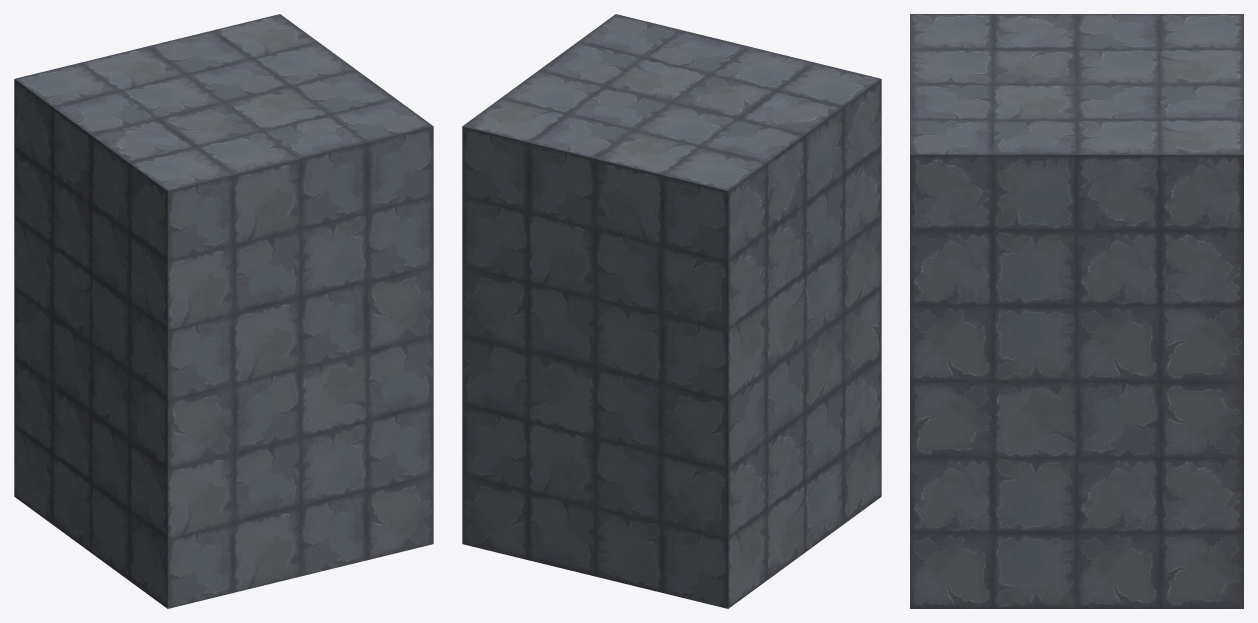
Rendered from Castle Block 4x4x6.fbx.
The picture shows the model from 3 angles, left to right: view 1: azimuth 30°, elevation 25°; view 2: azimuth 150°, elevation 25°; view 3: azimuth 270°, elevation 25°; orthographic projection. The views are drawn at different scales.
Visible parts, largest first — view 1: Castle Block 4x4x6; view 2: Castle Block 4x4x6; view 3: Castle Block 4x4x6.
Part boxes in pixels (left/top/right/bottom): Castle Block 4x4x6: left=14, top=14, right=433, bottom=608; Castle Block 4x4x6: left=462, top=14, right=881, bottom=608; Castle Block 4x4x6: left=910, top=14, right=1243, bottom=608.
Size of the model in its own units: 3 by 4.5 by 3.
